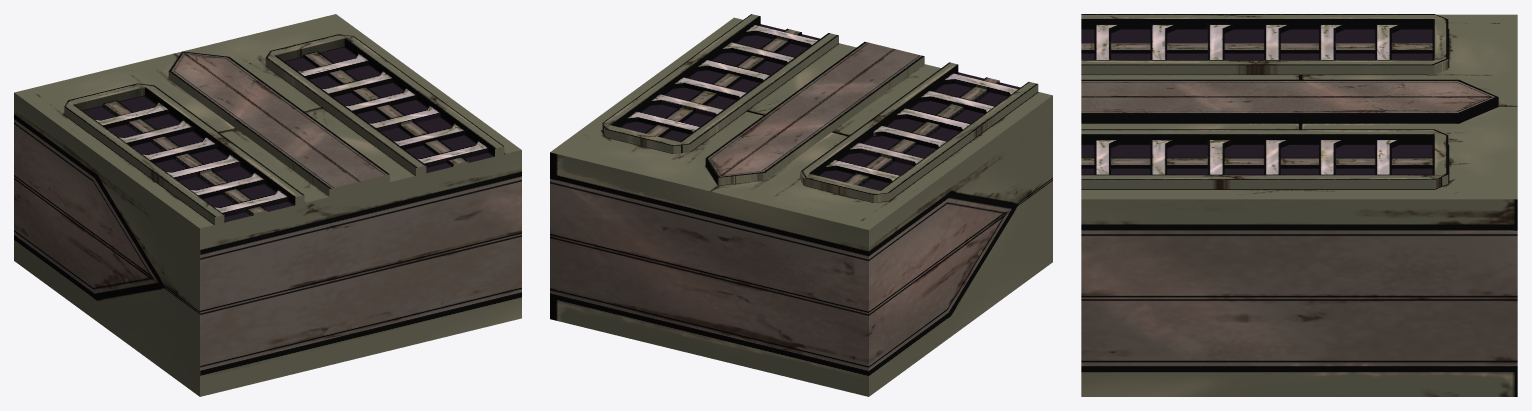
The model's file is floor2.fbx.
3 renders of one model, left to right at view 1: azimuth 30°, elevation 25°; view 2: azimuth 150°, elevation 25°; view 3: azimuth 270°, elevation 25°, orthographic. The views are drawn at different scales.
Visible parts, largest first — view 1: Cube; view 2: Cube; view 3: Cube.
Boxes of the visible parts, x1,y1,x2,y2 form: Cube: (14, 14, 521, 396); Cube: (550, 14, 1052, 396); Cube: (1081, 14, 1517, 396).
Size of the model in its own units: 200 by 105 by 200.
Materials: 1 (1 with a texture image).
